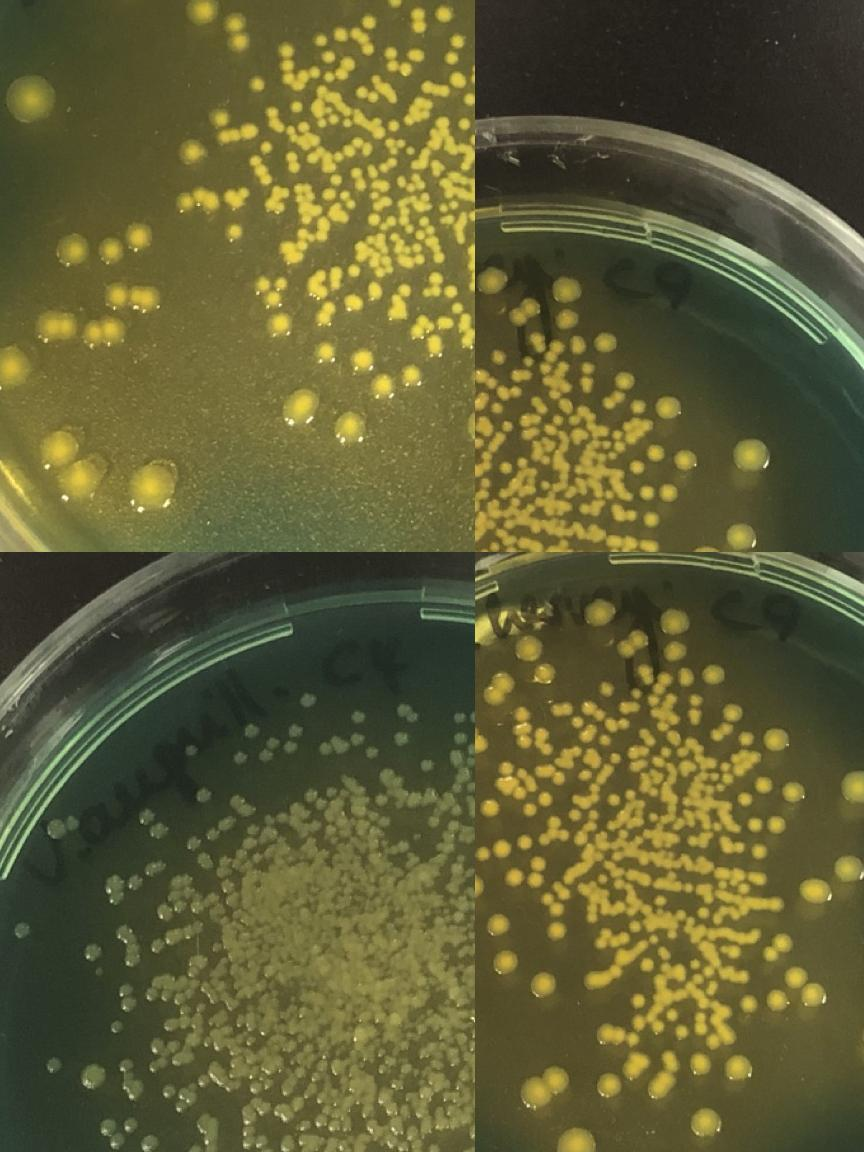sinniae: (280, 44, 356, 86), (4, 74, 58, 124), (130, 466, 174, 510), (402, 214, 438, 266), (378, 136, 418, 174), (81, 316, 126, 348), (103, 285, 162, 309), (66, 461, 102, 500), (334, 409, 370, 447), (35, 311, 79, 340), (253, 274, 288, 309), (395, 170, 433, 202), (56, 233, 92, 266), (334, 135, 374, 164), (43, 432, 77, 466), (0, 349, 30, 387), (285, 390, 319, 423), (174, 189, 219, 213), (225, 14, 250, 53), (186, 0, 220, 27), (384, 46, 413, 76), (98, 237, 126, 266), (322, 188, 358, 210), (126, 222, 154, 250), (348, 28, 376, 55), (314, 113, 354, 131), (263, 184, 285, 216), (212, 109, 232, 144), (284, 120, 310, 146), (224, 186, 251, 209), (314, 302, 336, 330), (370, 373, 394, 398), (268, 311, 292, 336), (180, 140, 204, 164), (387, 113, 415, 132), (348, 166, 368, 191), (314, 265, 343, 282), (249, 154, 269, 178), (462, 87, 475, 123), (356, 85, 380, 104), (436, 198, 461, 216), (402, 366, 422, 386), (317, 342, 337, 362), (224, 222, 244, 242), (247, 74, 267, 94), (415, 316, 436, 335), (344, 293, 364, 312), (412, 7, 426, 34), (284, 151, 300, 174), (370, 115, 386, 138), (354, 350, 372, 370), (434, 6, 454, 24), (296, 228, 310, 252), (465, 407, 475, 440), (427, 334, 442, 356), (354, 240, 368, 263), (460, 328, 475, 348), (458, 115, 472, 130), (290, 101, 304, 116), (315, 83, 329, 98), (437, 83, 451, 98), (445, 284, 459, 298), (398, 284, 412, 298), (347, 264, 361, 278), (380, 254, 394, 268), (432, 250, 446, 264), (387, 230, 401, 244), (367, 212, 381, 226), (292, 181, 306, 195), (330, 174, 344, 188), (458, 159, 472, 173), (266, 106, 280, 120), (421, 80, 435, 94), (369, 74, 383, 88), (410, 48, 424, 62), (314, 34, 328, 48), (362, 14, 376, 28), (467, 201, 475, 224), (440, 316, 454, 329), (367, 189, 381, 202), (322, 51, 336, 64), (382, 0, 402, 9), (452, 302, 464, 316), (430, 270, 442, 284), (386, 213, 398, 227), (310, 202, 322, 216), (306, 152, 318, 166), (260, 142, 272, 156), (436, 116, 450, 128), (450, 74, 462, 88), (445, 52, 459, 64), (452, 35, 464, 49), (334, 28, 346, 42), (469, 62, 475, 86)
vangil: (256, 717, 305, 764), (184, 826, 220, 854), (97, 1120, 124, 1152), (448, 707, 475, 729), (43, 1054, 65, 1078), (194, 785, 214, 807), (230, 747, 250, 769), (240, 722, 260, 744), (350, 706, 370, 728), (300, 690, 320, 712), (418, 756, 437, 778), (392, 728, 410, 750), (121, 1117, 139, 1135), (160, 1082, 178, 1100), (91, 964, 109, 982), (148, 938, 166, 956), (316, 741, 334, 758), (279, 1136, 297, 1152), (126, 874, 144, 890), (364, 746, 382, 762), (350, 732, 368, 748), (137, 809, 155, 824), (108, 1020, 126, 1034), (14, 924, 32, 938), (243, 822, 261, 836), (182, 744, 200, 758), (453, 732, 471, 746), (326, 1120, 340, 1134), (411, 829, 423, 843), (450, 804, 462, 818), (186, 1143, 204, 1152), (467, 1123, 475, 1138)
vharveyi: (593, 1058, 646, 1102), (520, 1065, 571, 1109), (600, 370, 648, 416), (708, 702, 756, 748), (783, 966, 827, 1006), (503, 854, 547, 892), (481, 668, 518, 708), (731, 438, 769, 476), (686, 1105, 724, 1141), (796, 876, 836, 905), (724, 520, 760, 552), (537, 814, 572, 846), (548, 274, 586, 303), (656, 606, 694, 635), (506, 298, 542, 328), (614, 630, 650, 660), (556, 1126, 597, 1152), (722, 1052, 754, 1084), (832, 851, 864, 883), (513, 632, 545, 664), (528, 969, 560, 1000), (475, 836, 513, 862), (638, 479, 678, 503), (476, 266, 508, 296), (746, 811, 786, 835), (584, 598, 616, 628), (839, 770, 864, 808), (653, 393, 685, 422), (761, 725, 793, 754), (490, 949, 522, 977), (664, 1008, 689, 1041), (486, 910, 514, 939), (624, 1014, 646, 1048), (688, 958, 715, 985), (671, 446, 699, 472), (779, 778, 807, 804), (540, 892, 566, 918), (602, 428, 627, 454), (710, 760, 735, 786), (592, 332, 620, 355), (688, 1052, 714, 1076), (764, 989, 790, 1013), (532, 664, 560, 686), (700, 664, 728, 686), (555, 308, 579, 332), (663, 640, 687, 663), (545, 921, 567, 945), (476, 796, 500, 818), (645, 442, 668, 464), (753, 774, 776, 796), (475, 721, 489, 757), (594, 1023, 616, 1045), (693, 1010, 709, 1038), (774, 931, 794, 953), (550, 700, 574, 718), (488, 347, 508, 367), (739, 994, 759, 1014), (514, 734, 534, 754), (596, 679, 616, 699), (514, 704, 534, 723), (628, 457, 648, 475), (516, 832, 534, 852), (736, 789, 756, 807), (638, 956, 656, 975), (497, 760, 515, 778), (475, 872, 486, 901), (688, 544, 727, 552), (644, 509, 660, 528), (752, 842, 768, 860), (630, 993, 646, 1010), (489, 400, 503, 418), (597, 732, 611, 750), (568, 808, 584, 822), (523, 802, 537, 818), (606, 792, 620, 808), (578, 769, 592, 784), (498, 460, 511, 476), (501, 418, 514, 434), (695, 906, 711, 919), (509, 386, 523, 400), (539, 361, 553, 375), (654, 892, 668, 906), (538, 792, 552, 806), (512, 786, 526, 800), (617, 718, 631, 732), (571, 715, 585, 729), (647, 693, 661, 707), (596, 874, 610, 887), (592, 710, 606, 723), (610, 751, 622, 766), (516, 454, 528, 468), (548, 389, 562, 401), (484, 378, 498, 390), (522, 354, 534, 368), (728, 946, 740, 960), (629, 920, 641, 934), (656, 721, 670, 733), (648, 933, 660, 946), (624, 787, 636, 800), (660, 746, 672, 759), (638, 728, 650, 741), (630, 687, 642, 700), (488, 541, 502, 552), (539, 480, 551, 492), (552, 414, 564, 426), (530, 396, 542, 408), (647, 812, 659, 824), (475, 436, 484, 451)
